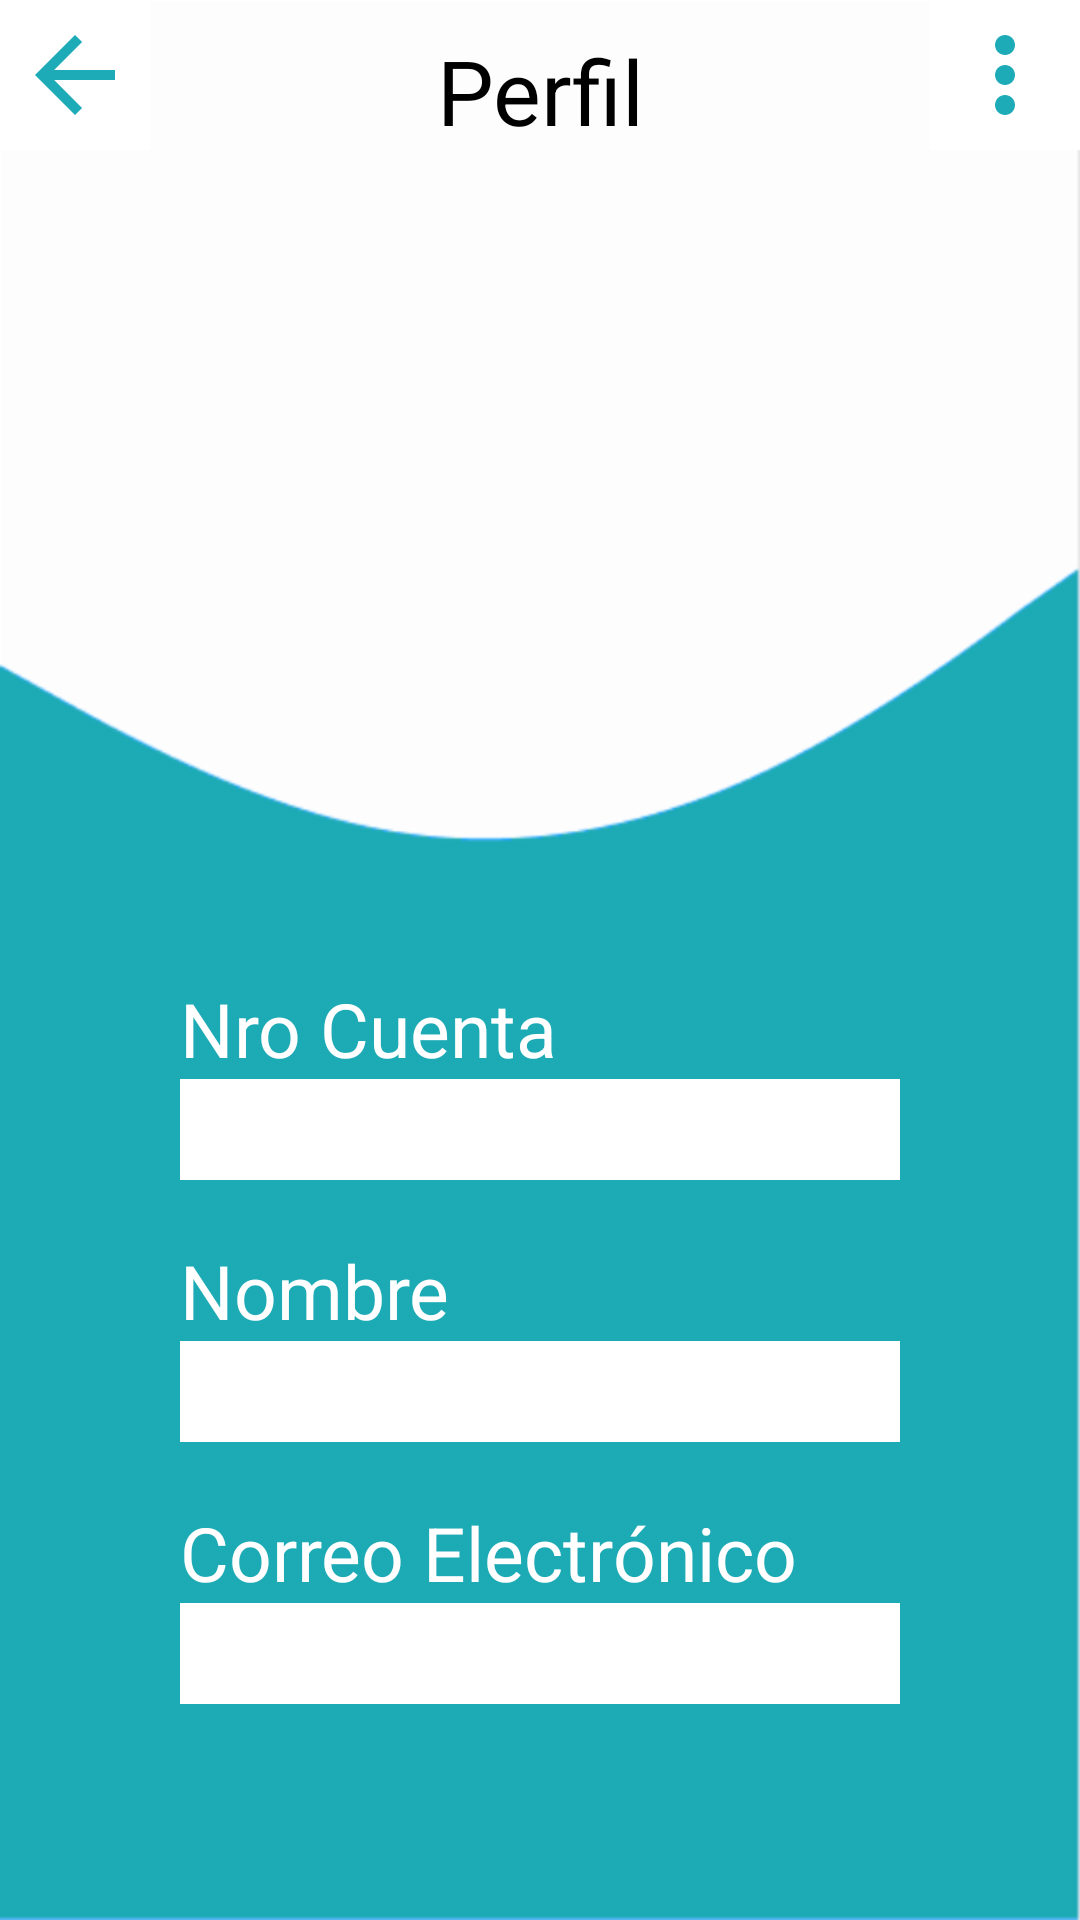

Named icons in this screenshot (1080px×1920px) and their centers, (x=x, y=y):
arrow: (x=75, y=75)
points: (x=1005, y=75)
